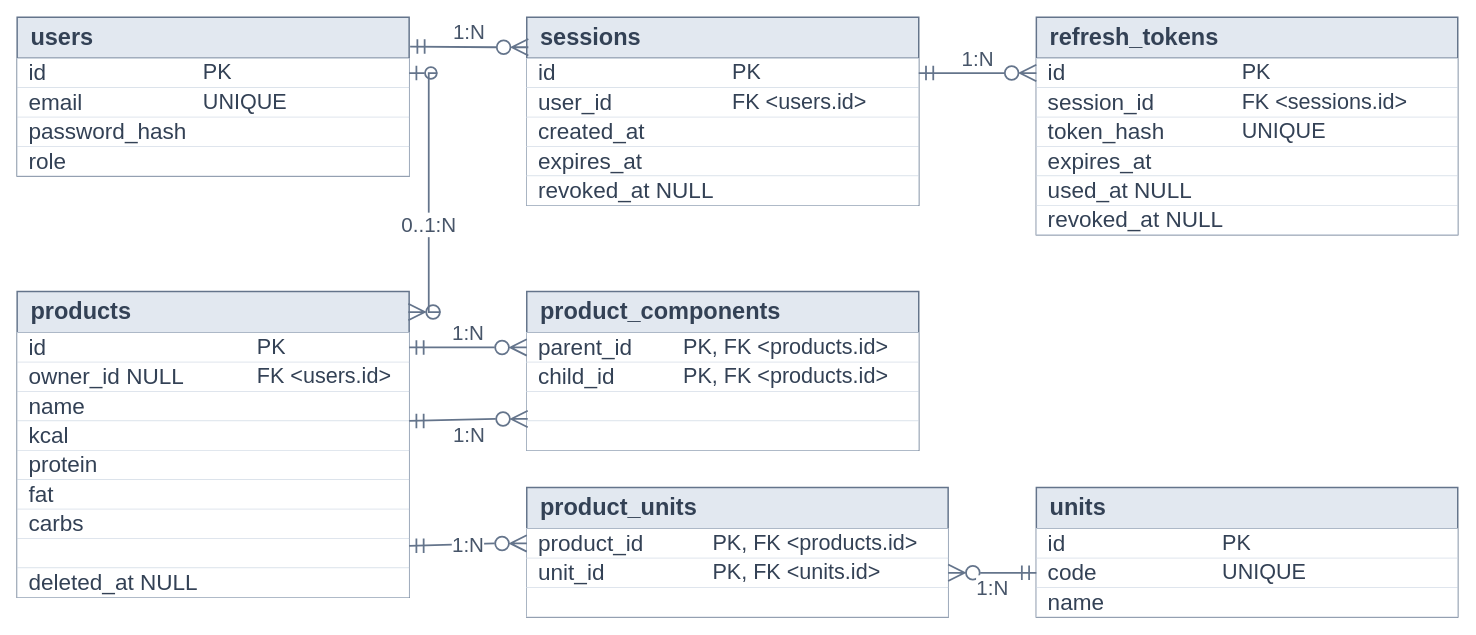
Image size: 1476x635. Some labels were removed from this diagram. Here are the shapes that lost their labels. From the top down, the centre of each, then its label:
point 722,406: share
point 722,435: yield NULL
point 212,553: common_yield NULL
point 737,602: grams_per_unit
